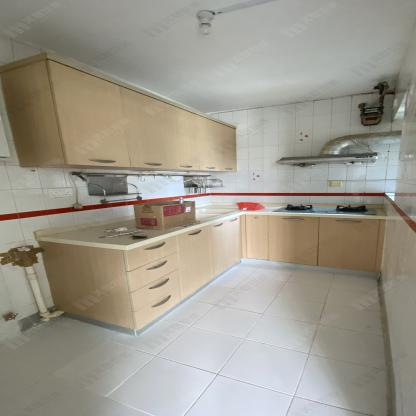Cupboard: (0, 52, 238, 172)
Exhaust Hood: (274, 148, 379, 170)
Stove: (271, 201, 380, 219)
